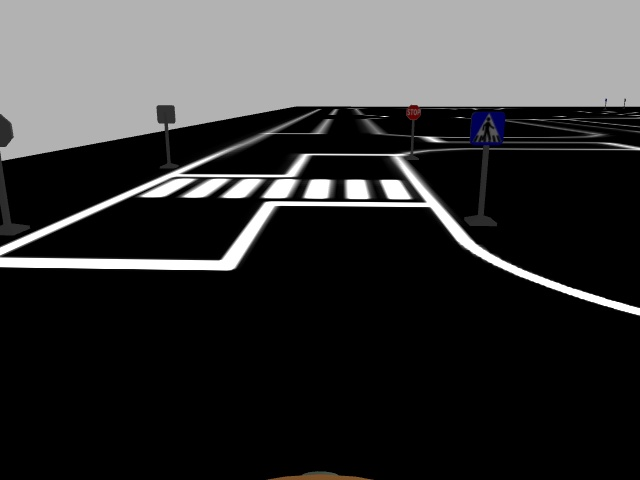crosswalk: (468, 107, 507, 150)
stop: (404, 103, 424, 122)
